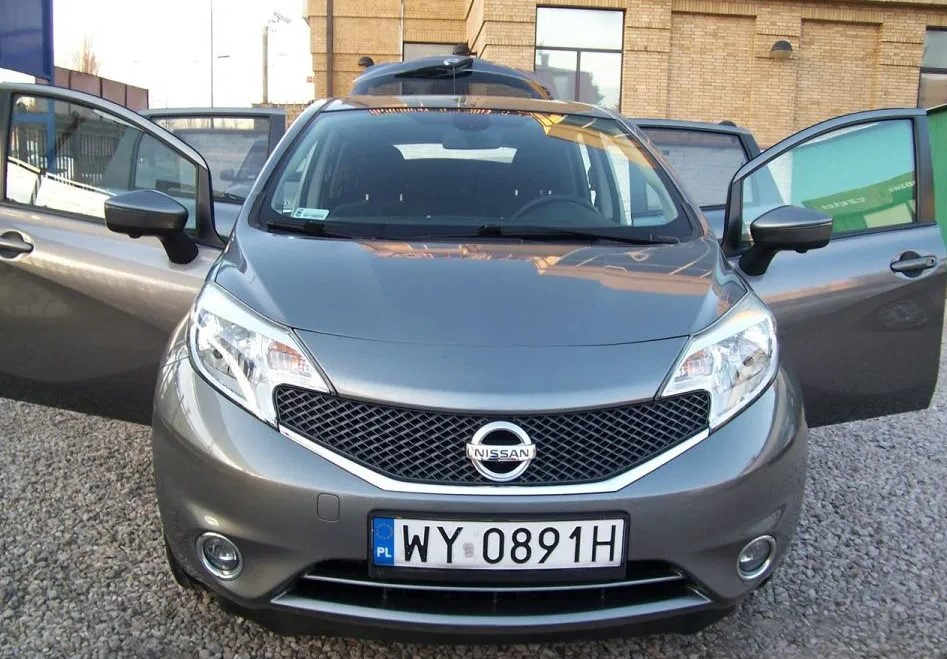number_plate: (356, 504, 640, 579)
